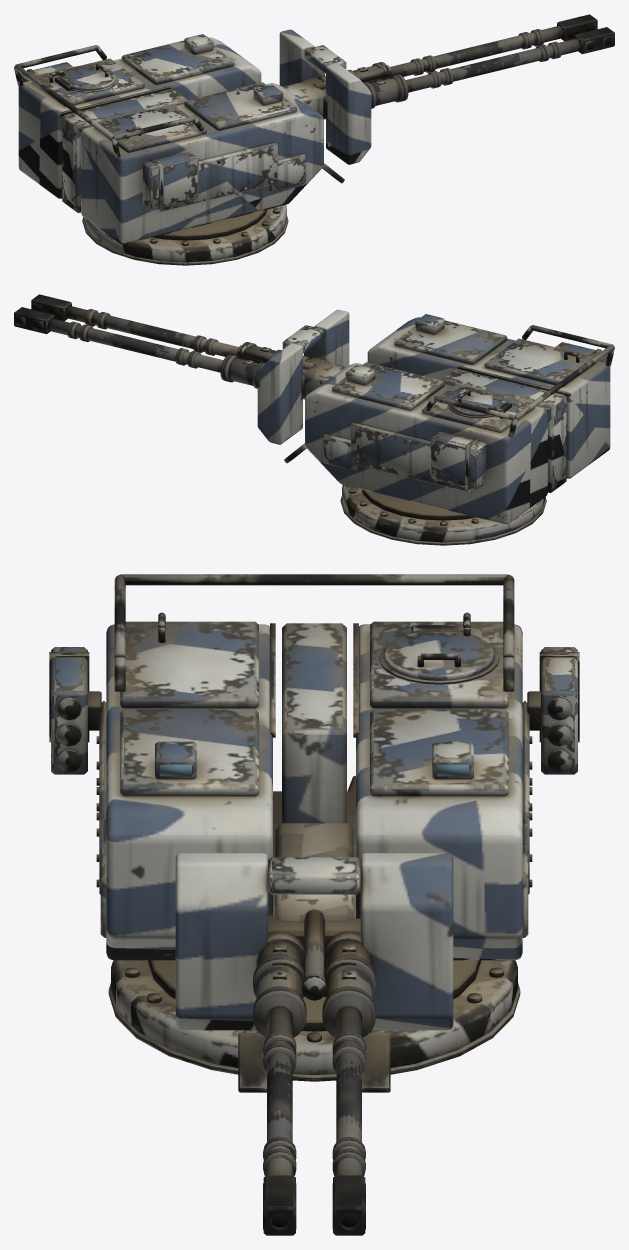
The model's file is turret_kit_t2_dazzle.glb.
3 views of the same model, one above another, from view 1: azimuth 30°, elevation 25°; view 2: azimuth 150°, elevation 25°; view 3: azimuth 270°, elevation 25° (orthographic). The views are drawn at different scales.
Visible parts, largest first — view 1: turret_twin_t2, guns, pods; view 2: turret_twin_t2, guns, pods; view 3: turret_twin_t2, guns, pods.
Boxes of the visible parts, box(x1,y1,x2,y2) form: turret_twin_t2: box(14, 29, 371, 265); guns: box(283, 14, 614, 119); pods: box(21, 62, 198, 209); turret_twin_t2: box(257, 309, 614, 545); guns: box(14, 294, 345, 399); pods: box(430, 342, 607, 489); turret_twin_t2: box(96, 574, 532, 1092); guns: box(253, 823, 375, 1235); pods: box(49, 647, 579, 774).
Size of the model in its own units: 2.7 by 0.722 by 1.15.
4 materials, 3 textured.
